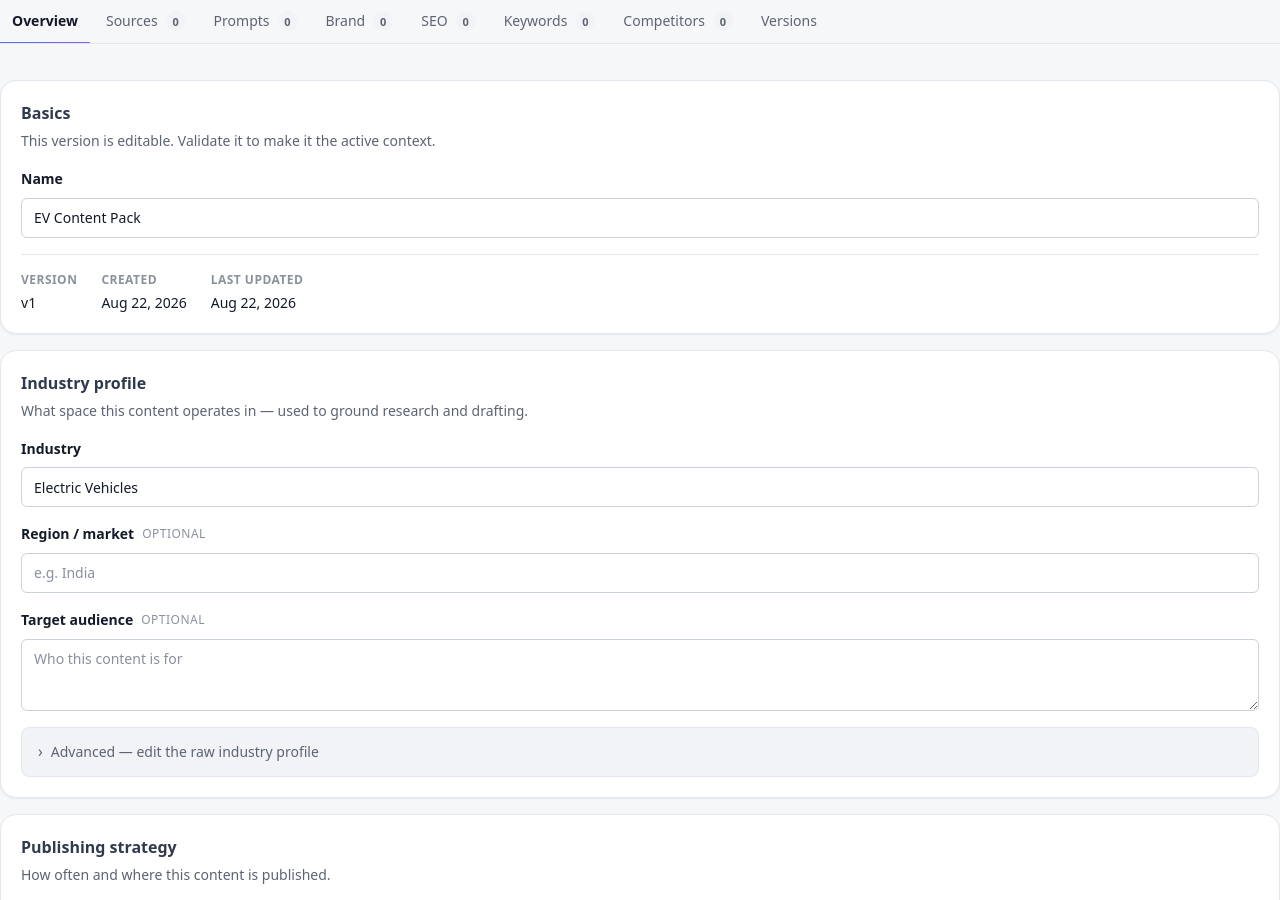
KnowledgePackEditor › shows which content types still need a prompt template
Click the tab "Prompts 0".
click(256, 22)  # box left=202, top=0, right=310, bottom=44
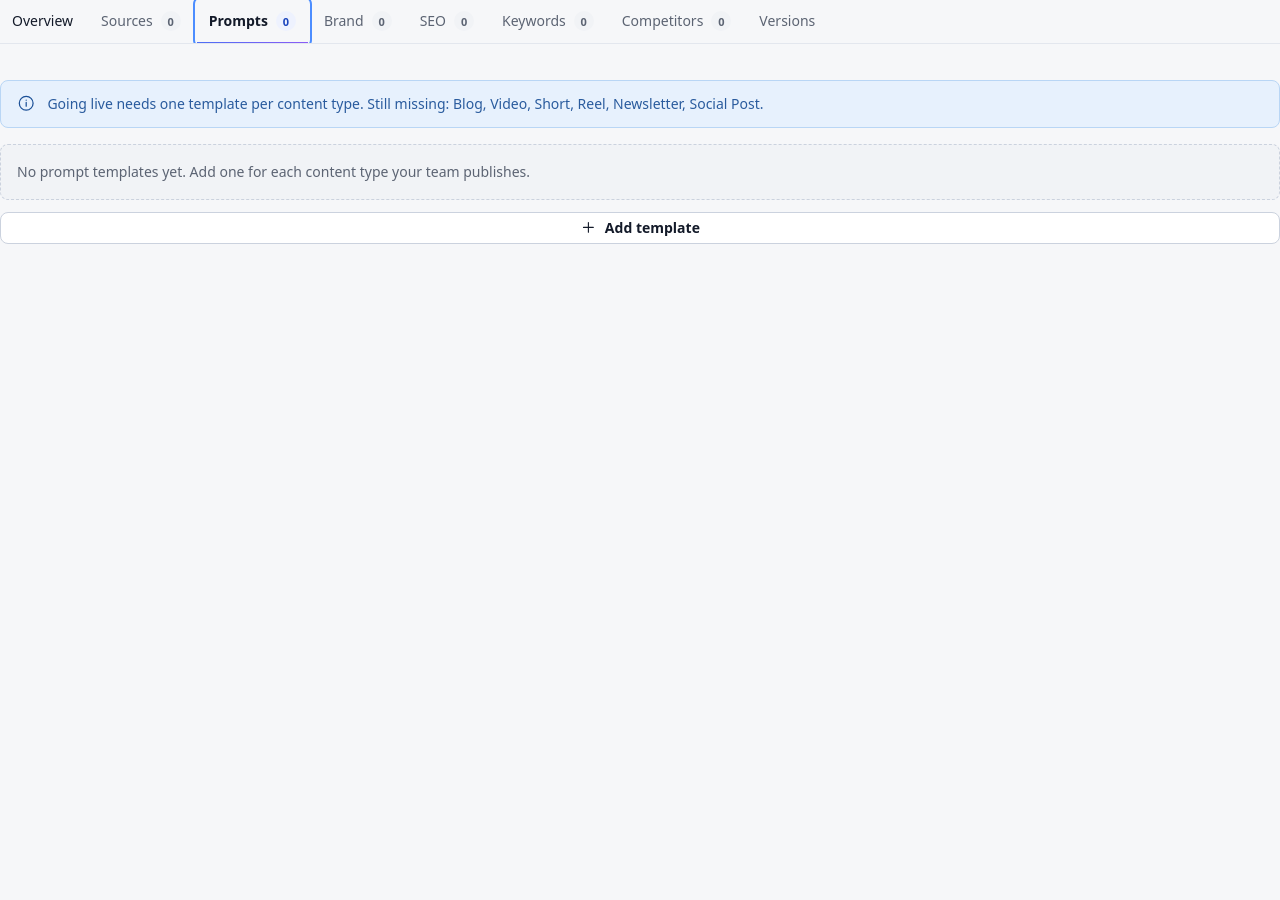
expect the text "Still missing: Blog, Video, Short, Reel, Newsletter, Social Post" is shown: met, box left=47, top=94, right=764, bottom=114
